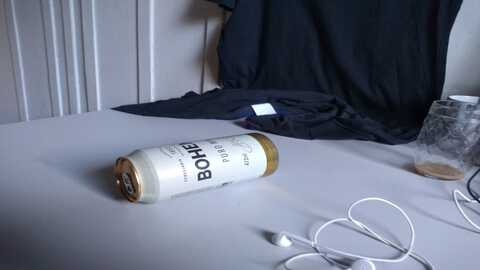bohemia: (112, 131, 280, 203)
